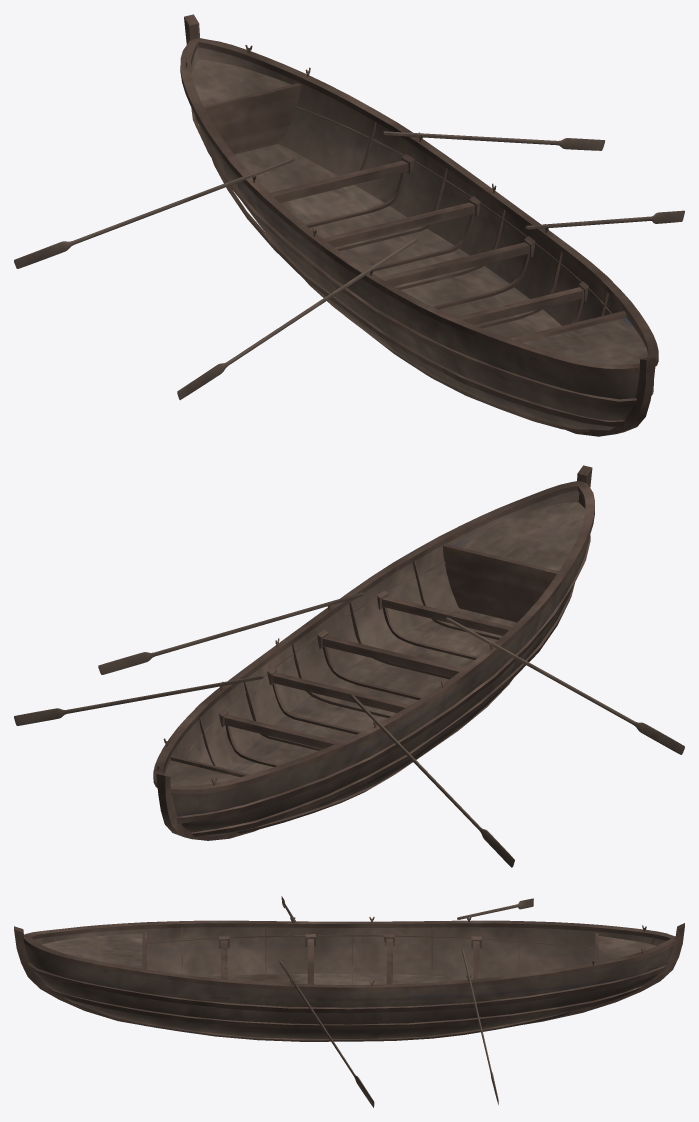
Rendered from mobile.glb.
The picture shows the model from 3 angles, top to bottom: view 1: azimuth 30°, elevation 25°; view 2: azimuth 150°, elevation 25°; view 3: azimuth 270°, elevation 25°; orthographic projection. The views are drawn at different scales.
Parts seen in each view (by area): view 1: SM_Boat_01; view 2: SM_Boat_01; view 3: SM_Boat_01.
Boxes of the visible parts, <box> form: SM_Boat_01: <box>14,14,684,436</box>; SM_Boat_01: <box>14,465,684,867</box>; SM_Boat_01: <box>14,896,684,1107</box>.
Size of the model in its own units: 6.81 by 1.75 by 9.46.
1 material, 1 textured.
